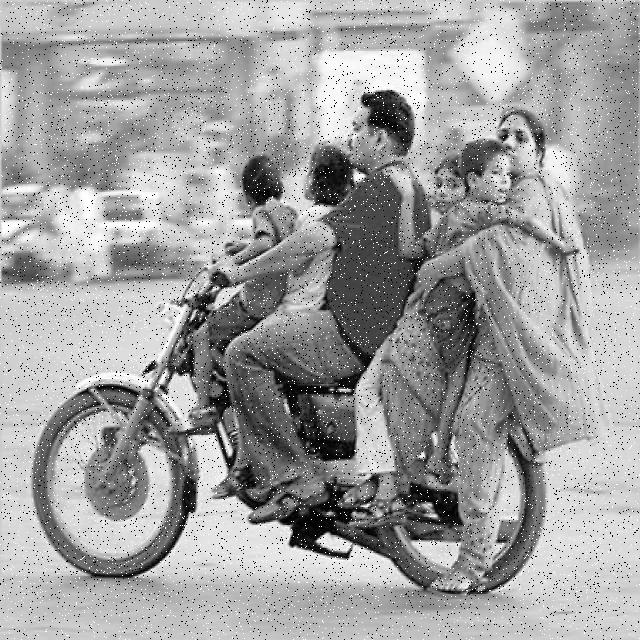Motorbike: (31, 89, 612, 597)
